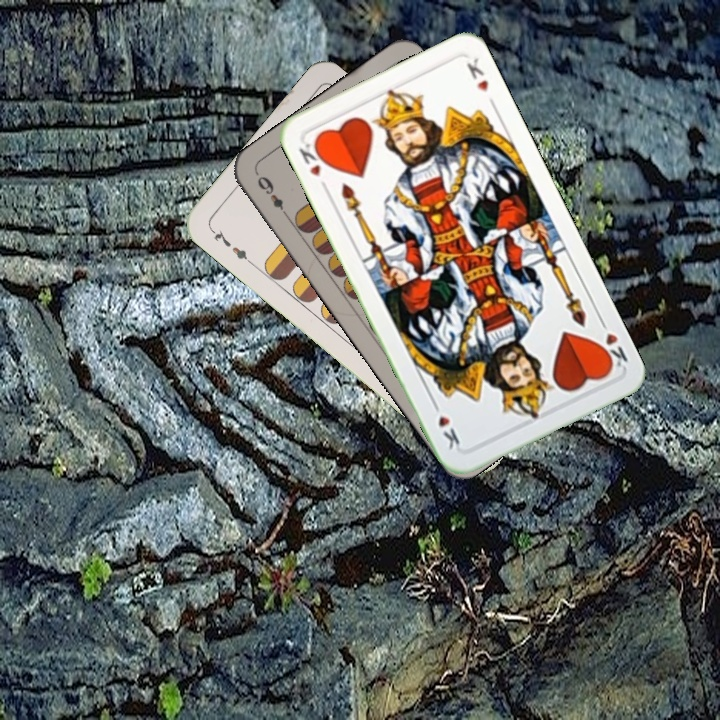E7: (206, 224, 255, 267)
E9: (252, 171, 292, 221)
HK: (594, 314, 631, 374), (294, 135, 331, 193)
